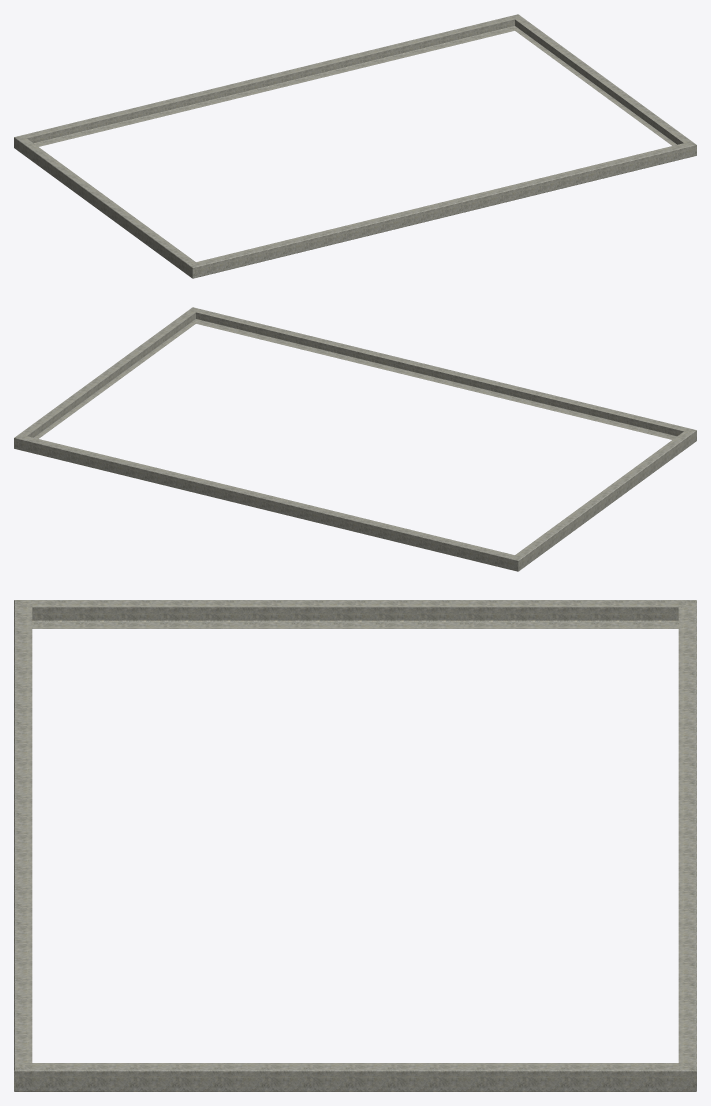
The model's file is CT_Building_Trim_033.fbx.
3 renders of one model, top to bottom at view 1: azimuth 30°, elevation 25°; view 2: azimuth 150°, elevation 25°; view 3: azimuth 270°, elevation 25°, orthographic. The views are drawn at different scales.
Parts seen in each view (by area): view 1: CT_Building_Trim_033; view 2: CT_Building_Trim_033; view 3: CT_Building_Trim_033.
Part boxes in pixels (bbox=[...]): CT_Building_Trim_033: bbox=[14, 14, 696, 278]; CT_Building_Trim_033: bbox=[14, 307, 696, 571]; CT_Building_Trim_033: bbox=[14, 600, 696, 1091].
Size of the model in its own units: 1323 by 28.46 by 811.
